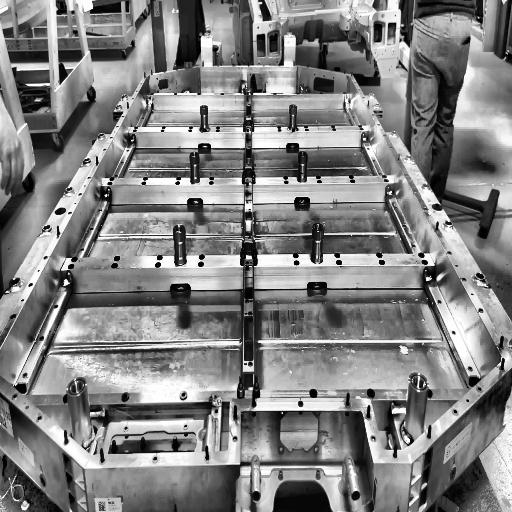b_casing: (0, 63, 512, 470)
